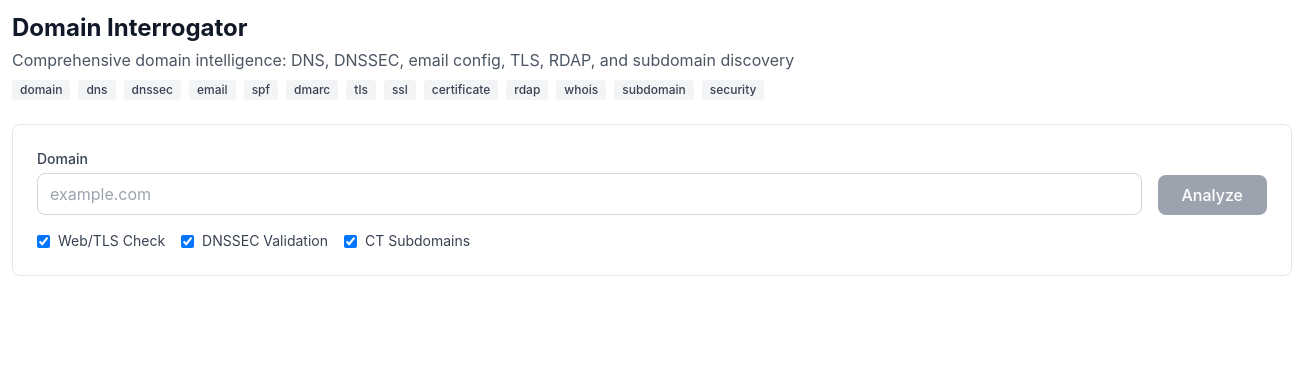
Test: DomainInterrogatorTool › API interaction › displays error on API failure
Type "invalid" into the field with placeholder "example.com". click: x=589, y=194
box: [37,173,1142,215]
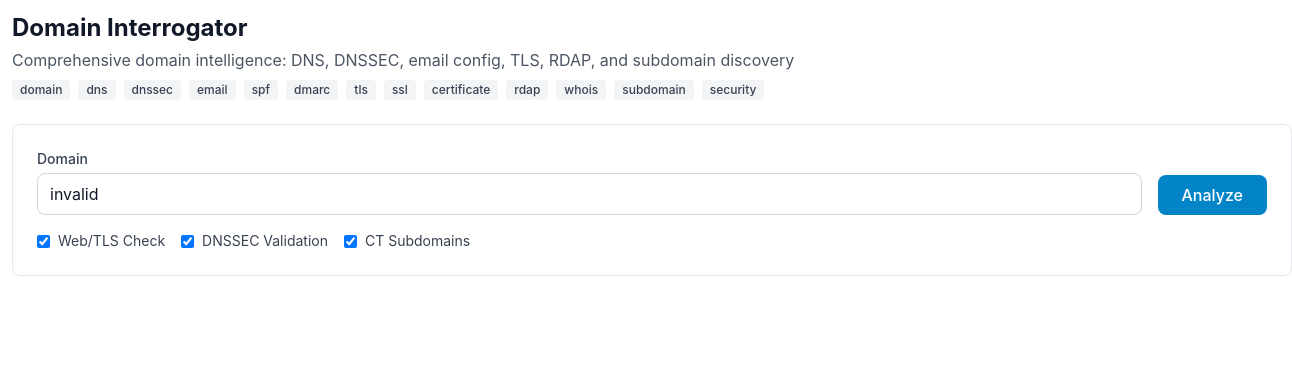
Click the button "Analyze". click: x=1212, y=195
box: [1158,175,1267,215]
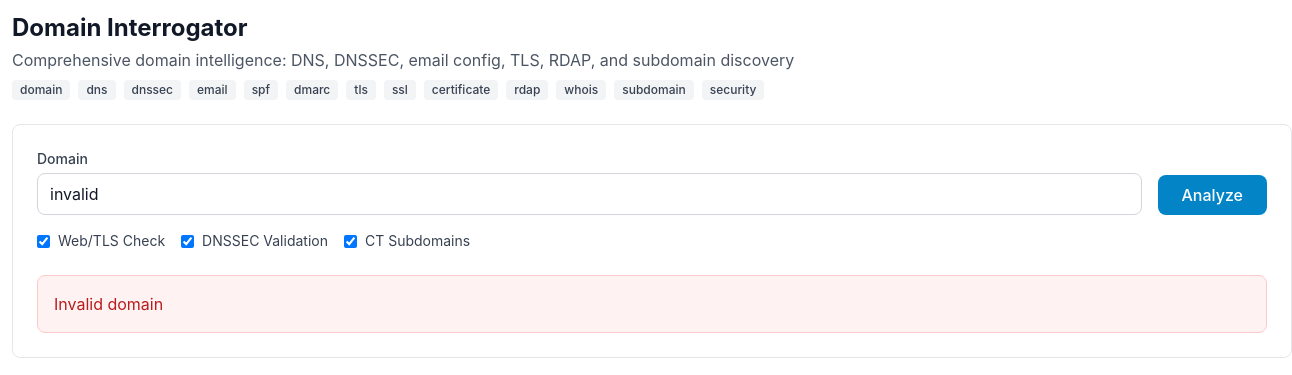
Now the text "Invalid domain" is shown, box [37,275,1267,333]
